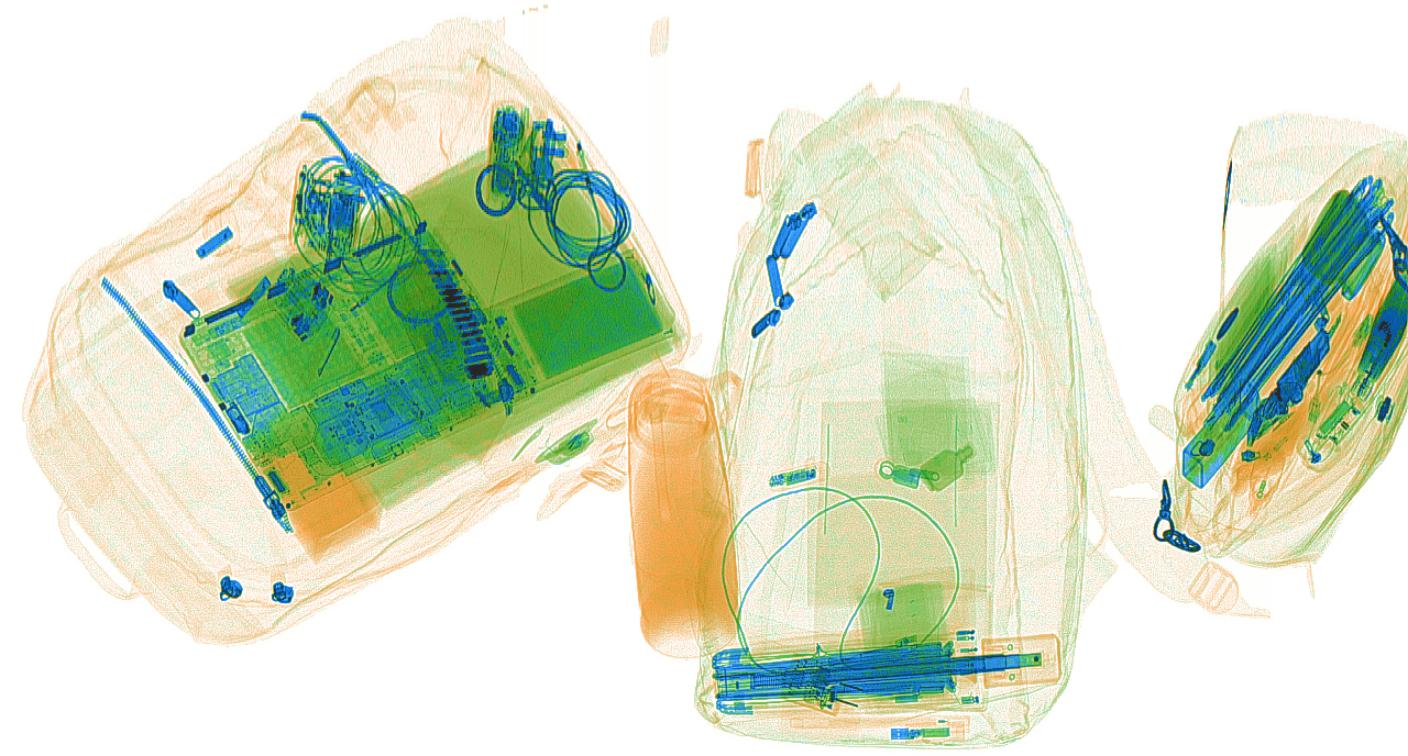USBFlashDisk: (1273, 326, 1333, 415), (873, 456, 924, 490), (889, 722, 950, 742)
plasticBottleWithaNozzle: (1246, 434, 1289, 519)
